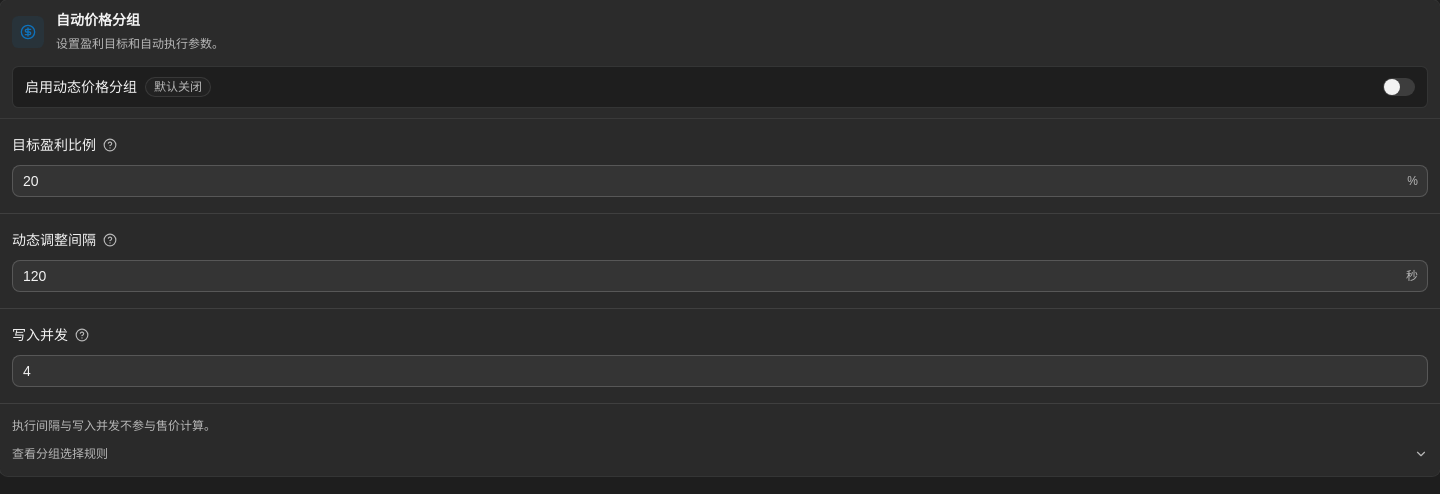
Test: 价格设置卡 › 点击自动执行的可见标签时切换对应开关
Step 1. Click the checkbox "启用动态价格分组" → (81, 87), box left=25, top=77, right=137, bottom=97
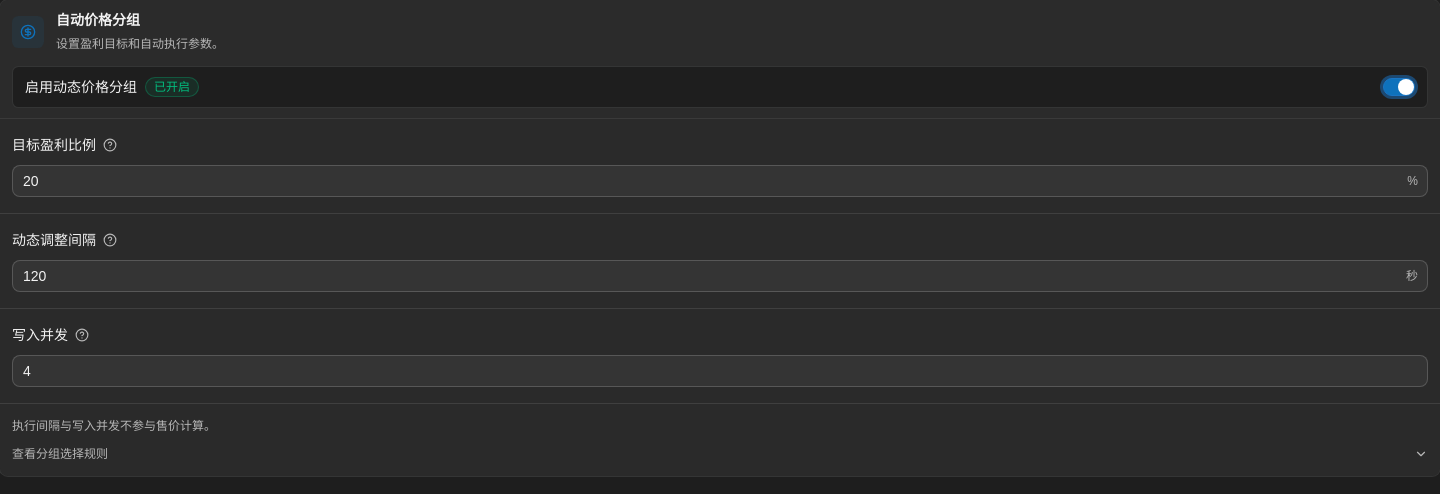
Expected: the switch named "启用动态价格分组" is checked, left=1383, top=78, right=1415, bottom=96
